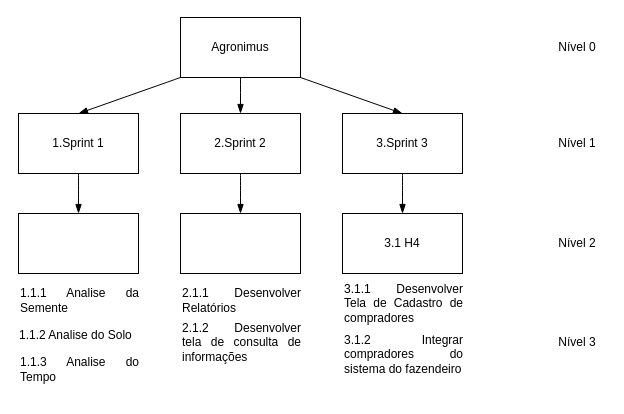
Some shapes in this 624 by 414 pixel diagram are drawn without their labels. Each missing label, with the centre of its shape:
1.1 H1: (78,243)
2.1 H2 e H3: (240,243)
